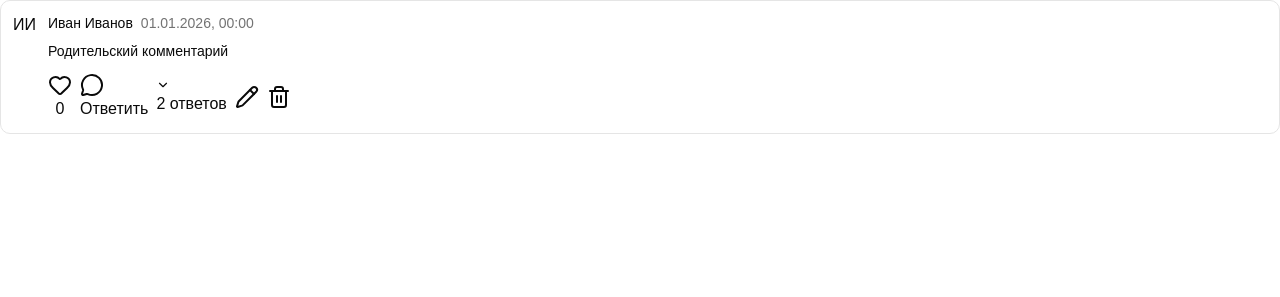
Test case: CommentThreadItem › корневой комментарий › показывает ответы на комментарий
Click the button with aria-label "Показать ответы" at (192, 97), box [156, 78, 227, 116]
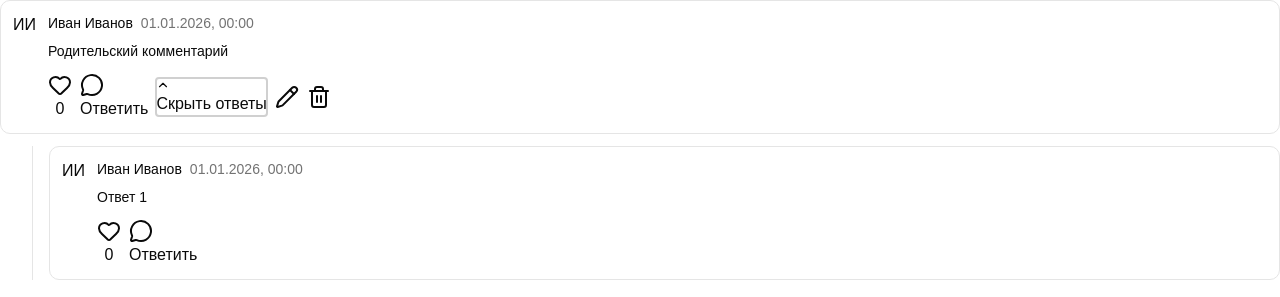
Result: the button "Скрыть ответы" is shown at [156, 78, 267, 116]
Result: the text "Ответ 1" is shown at [97, 189, 147, 205]
